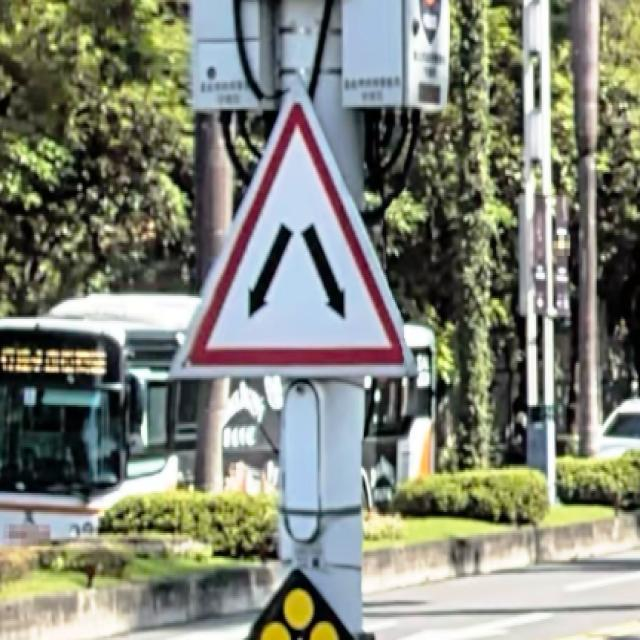diverge: (184, 103, 402, 367)
